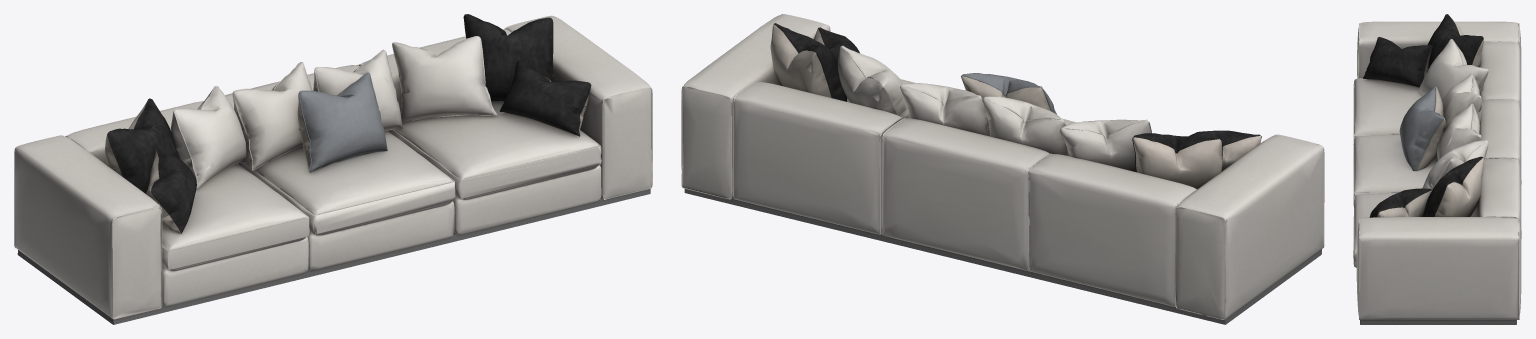
The model's file is raw_model.obj.
3 renders of one model, left to right at view 1: azimuth 30°, elevation 25°; view 2: azimuth 150°, elevation 25°; view 3: azimuth 270°, elevation 25°, orthographic. The views are drawn at different scales.
Visible parts, largest first — view 1: solid_005, solid_003, solid_001, solid_006, solid_004; view 2: solid_005, solid_004, solid_006, solid_003, solid_002, solid_001; view 3: solid_005, solid_003, solid_004, solid_001, solid_006, solid_002.
Boxes of the visible parts, x1,y1,x2,y2 form: solid_005: (14, 15, 652, 319); solid_003: (107, 14, 591, 233); solid_001: (298, 72, 387, 172); solid_006: (17, 189, 650, 324); solid_004: (104, 74, 588, 233); solid_005: (681, 14, 1324, 320); solid_004: (770, 24, 1261, 189); solid_006: (684, 189, 1321, 324); solid_003: (774, 23, 1261, 172); solid_002: (961, 76, 1050, 110); solid_001: (961, 73, 1056, 114); solid_005: (1353, 21, 1521, 319); solid_003: (1363, 14, 1483, 217); solid_004: (1377, 15, 1483, 217); solid_001: (1399, 86, 1444, 170); solid_006: (1360, 320, 1516, 324); solid_002: (1417, 87, 1445, 170).
Size of the model in its own units: 2.37 by 0.6307 by 0.7742.
1 material, 1 textured.
